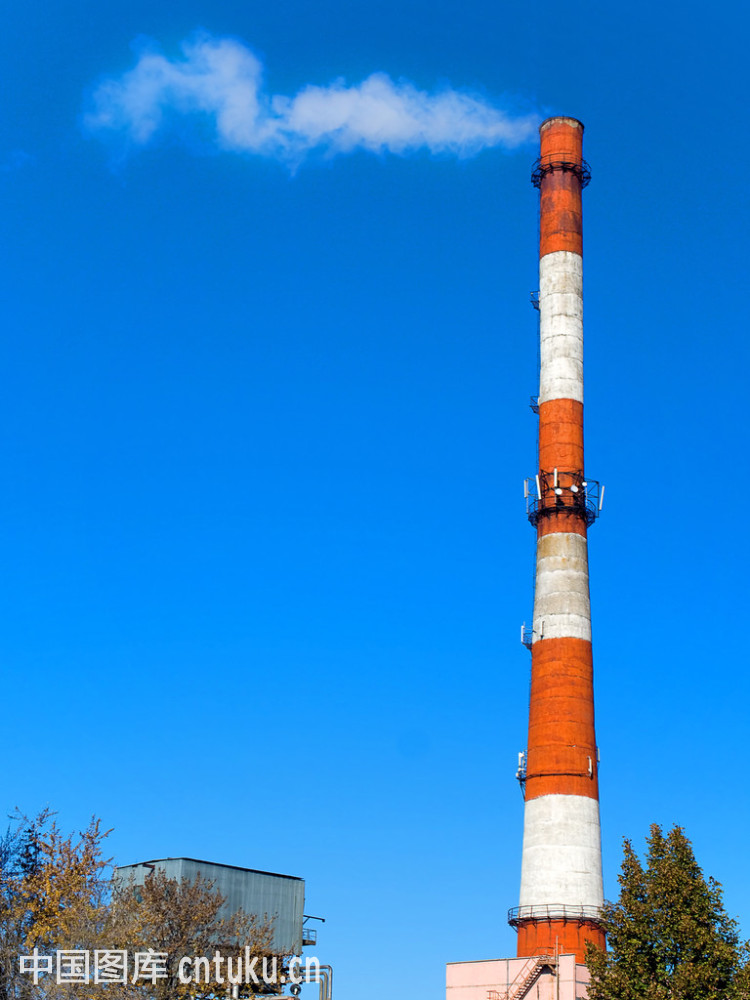dust: (92, 33, 595, 170)
